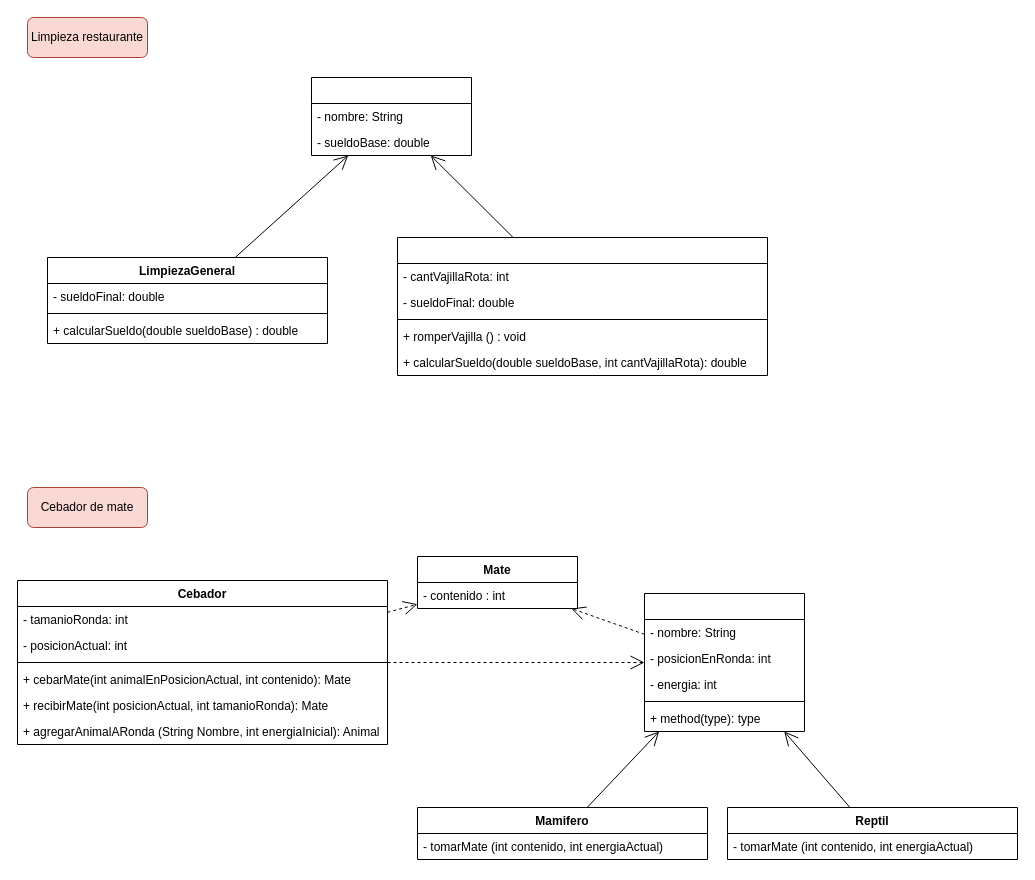
The diagram is 1035 pixels wide and 880 high, and some of its shapes have lost their labels. The box of each missing label's shape, as (x1, y1, x2, y2) in pixels:
Animal: (644, 592, 804, 732)
EmpleadosLimpieza: (310, 76, 472, 156)
LavadoresVajilla: (396, 236, 768, 376)
